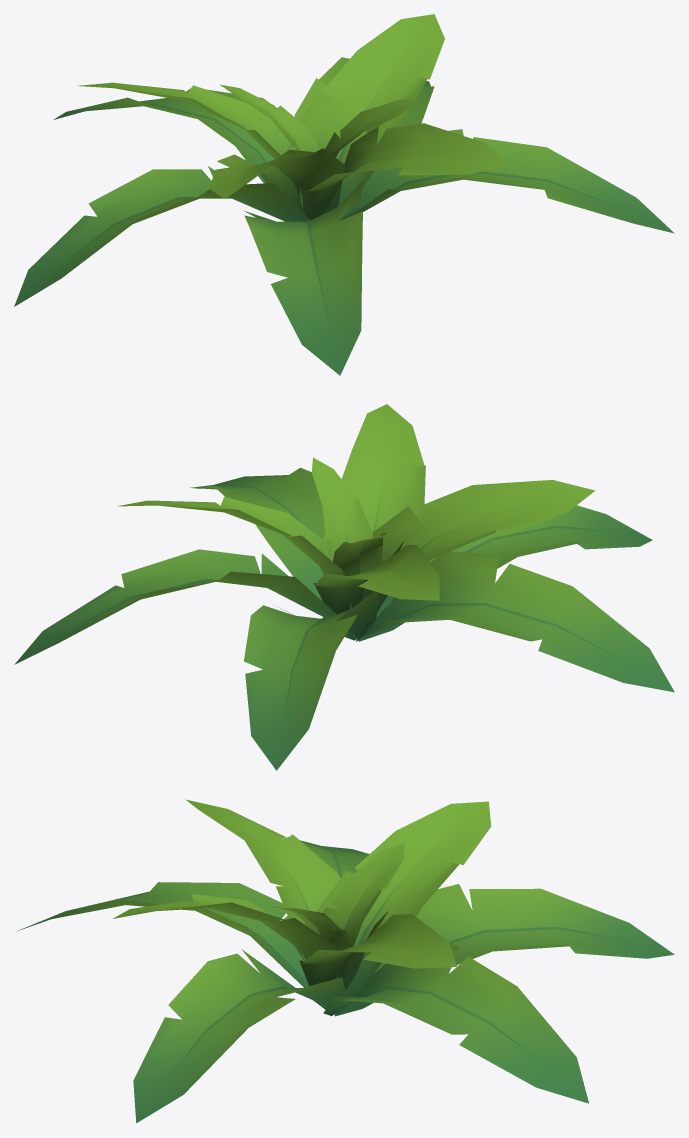
Rendered from prop_environment_plant02_1.fbx.
3 renders of one model, top to bottom at view 1: azimuth 30°, elevation 25°; view 2: azimuth 150°, elevation 25°; view 3: azimuth 270°, elevation 25°, orthographic.
Parts seen in each view (by area): view 1: prop_environment_plant02_1; view 2: prop_environment_plant02_1; view 3: prop_environment_plant02_1.
Part boxes in pixels (left/top/right/bottom): prop_environment_plant02_1: left=14, top=14, right=674, bottom=375; prop_environment_plant02_1: left=14, top=404, right=674, bottom=770; prop_environment_plant02_1: left=16, top=799, right=674, bottom=1123.
Size of the model in its own units: 874 by 212 by 885.
1 material, 1 textured.
